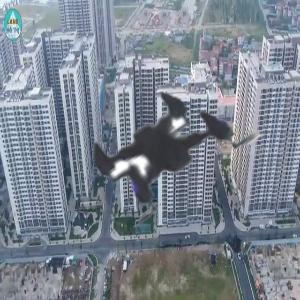drone: (28, 17, 297, 286)
